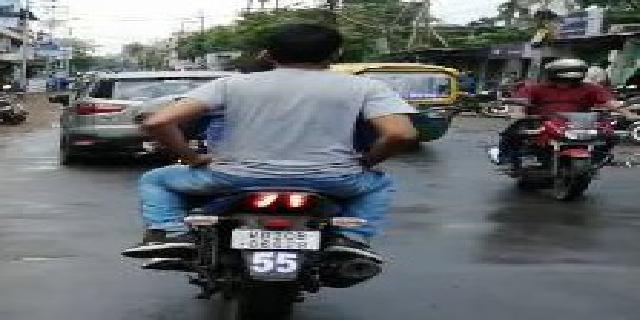Autorickshaw: (344, 57, 461, 156)
Car: (43, 58, 218, 166)
Motorbike: (162, 32, 420, 319), (515, 41, 628, 205)
